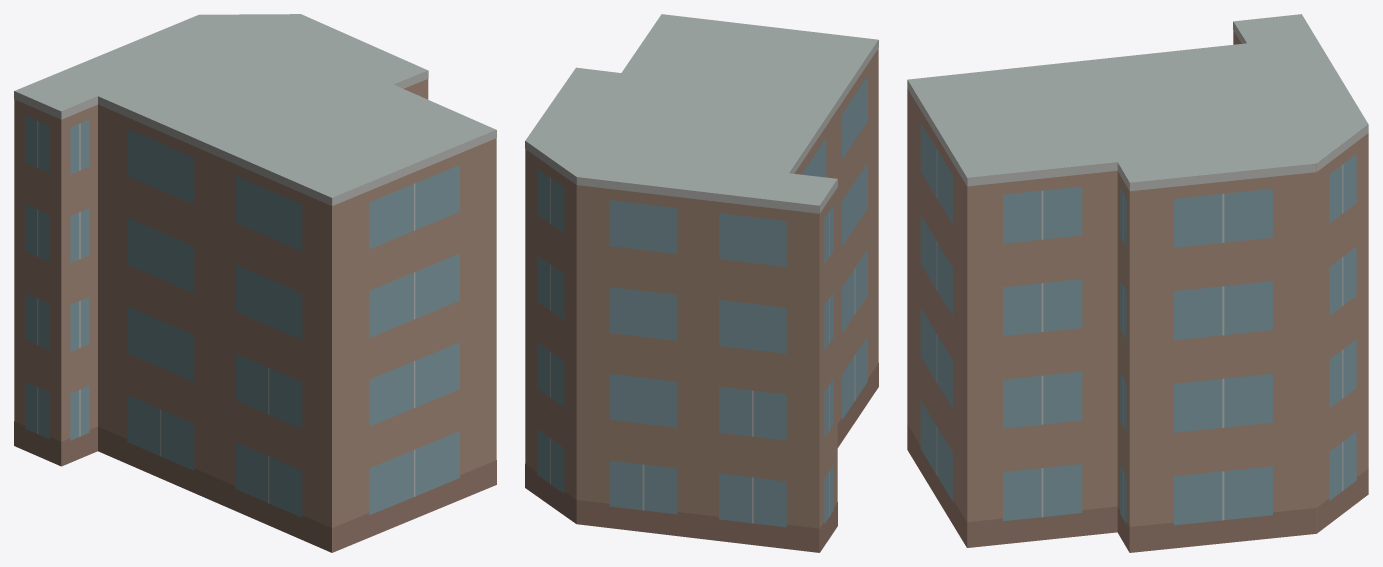
Rendered from survey-upis-32653646.glb.
3 renders of one model, left to right at view 1: azimuth 30°, elevation 25°; view 2: azimuth 150°, elevation 25°; view 3: azimuth 270°, elevation 25°, orthographic. The views are drawn at different scales.
Visible parts, largest first — view 1: survey-upis-32653646.tmp; view 2: survey-upis-32653646.tmp; view 3: survey-upis-32653646.tmp.
Boxes of the visible parts, x1,y1,x2,y2 form: survey-upis-32653646.tmp: (14,14,496,552); survey-upis-32653646.tmp: (525,14,878,552); survey-upis-32653646.tmp: (907,14,1368,552).
Bounding box in the file's own units: 10.33 × 10.55 × 11.93.
